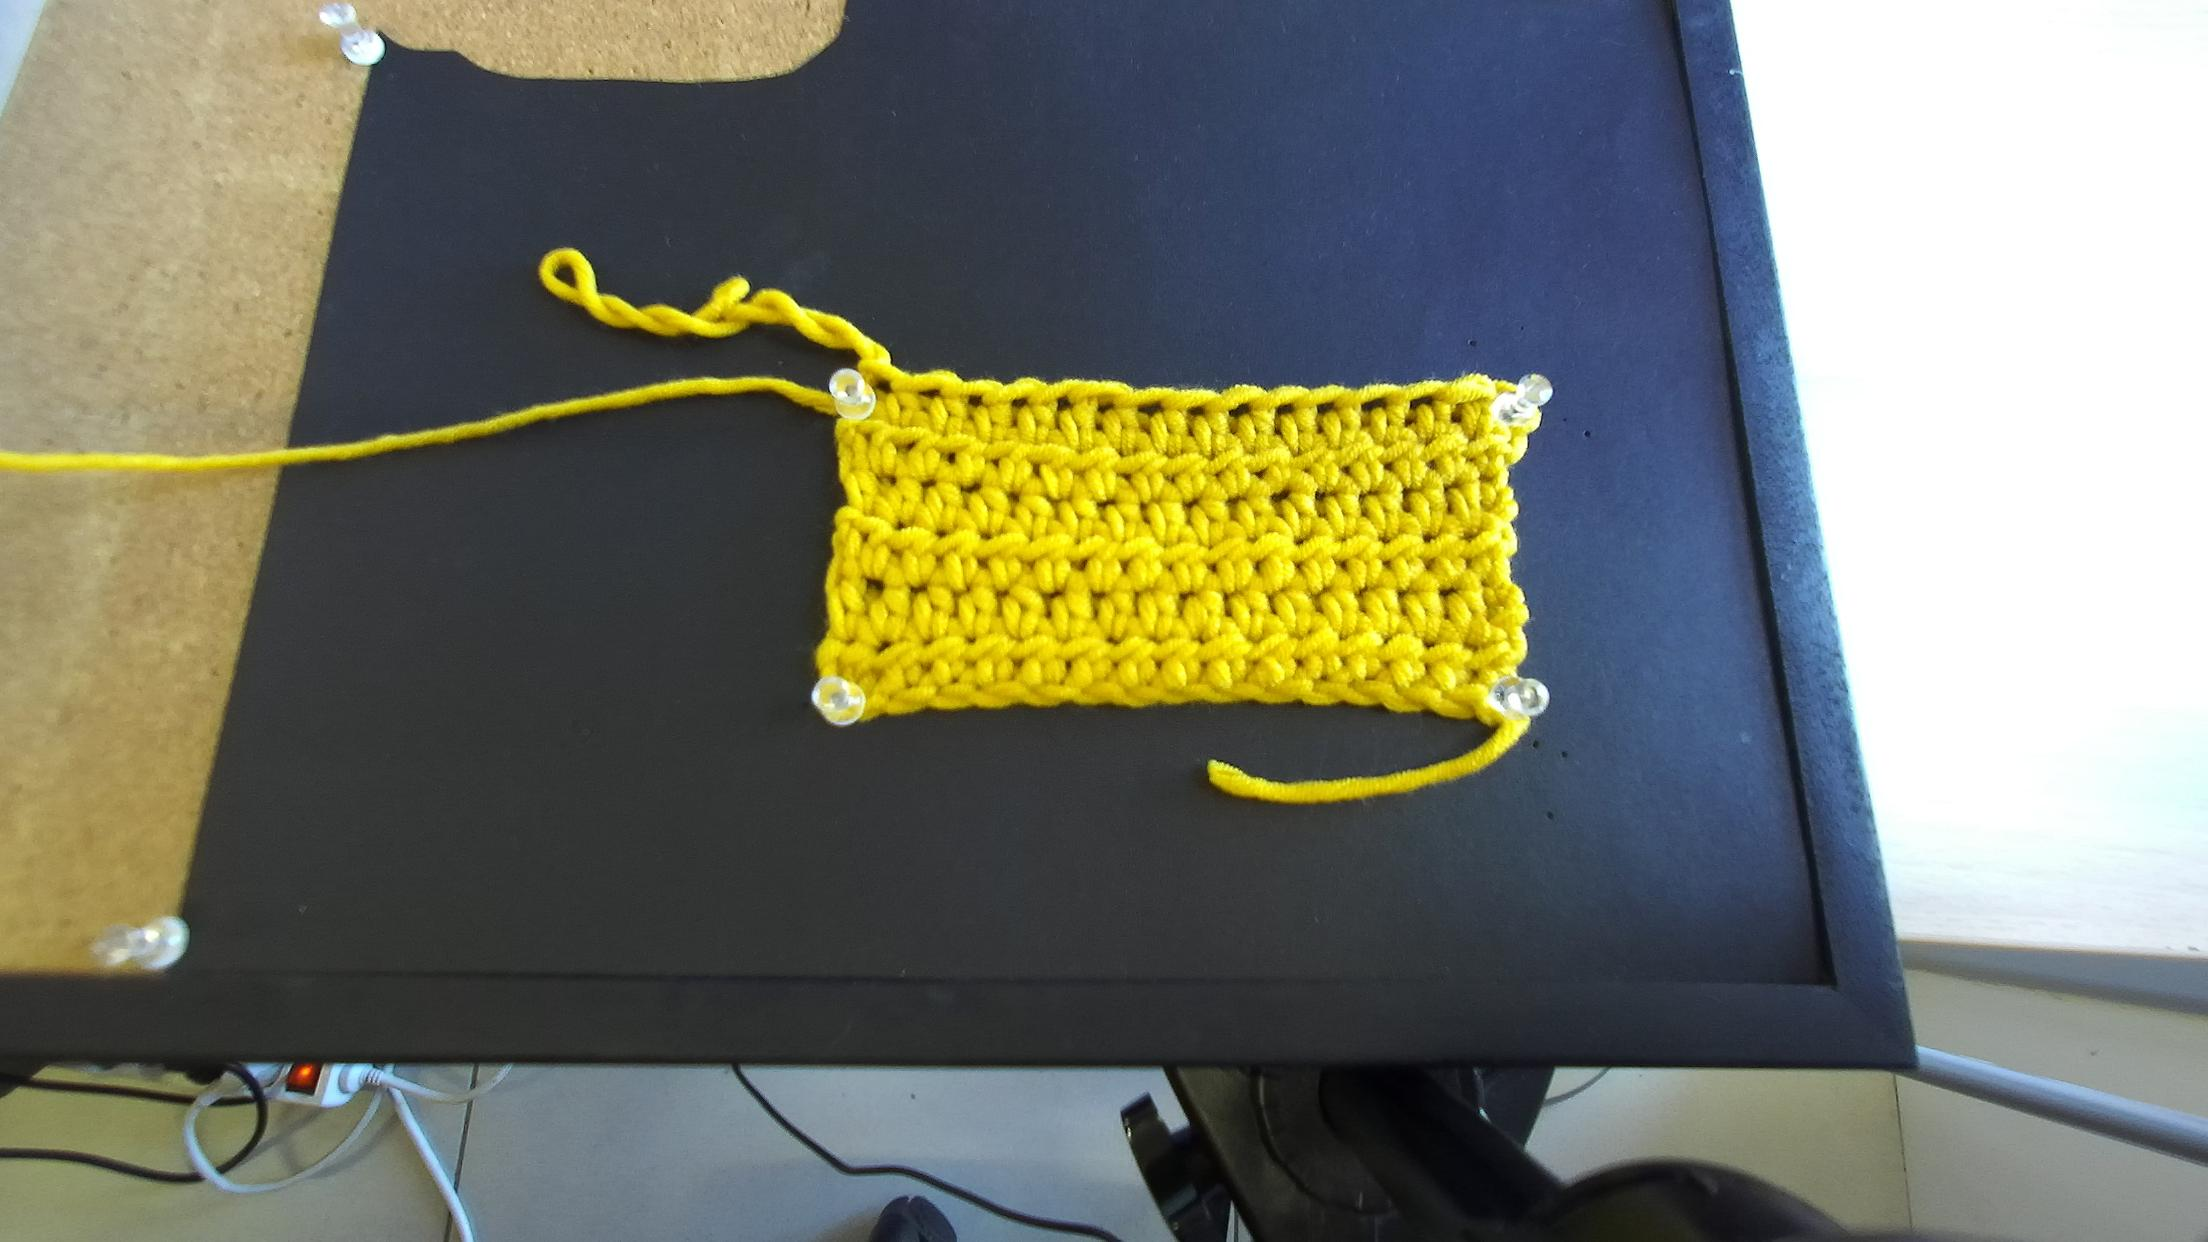hole: (1137, 400, 1166, 419), (1360, 397, 1391, 414), (1227, 403, 1253, 420), (872, 378, 895, 396), (1450, 397, 1488, 406), (1316, 402, 1339, 416), (1409, 396, 1432, 409), (1057, 394, 1074, 412), (1096, 400, 1118, 414), (1184, 405, 1206, 417), (917, 390, 940, 400), (968, 394, 983, 409), (1275, 403, 1294, 416), (1011, 399, 1028, 409)
swatch: (810, 365, 1545, 726)
